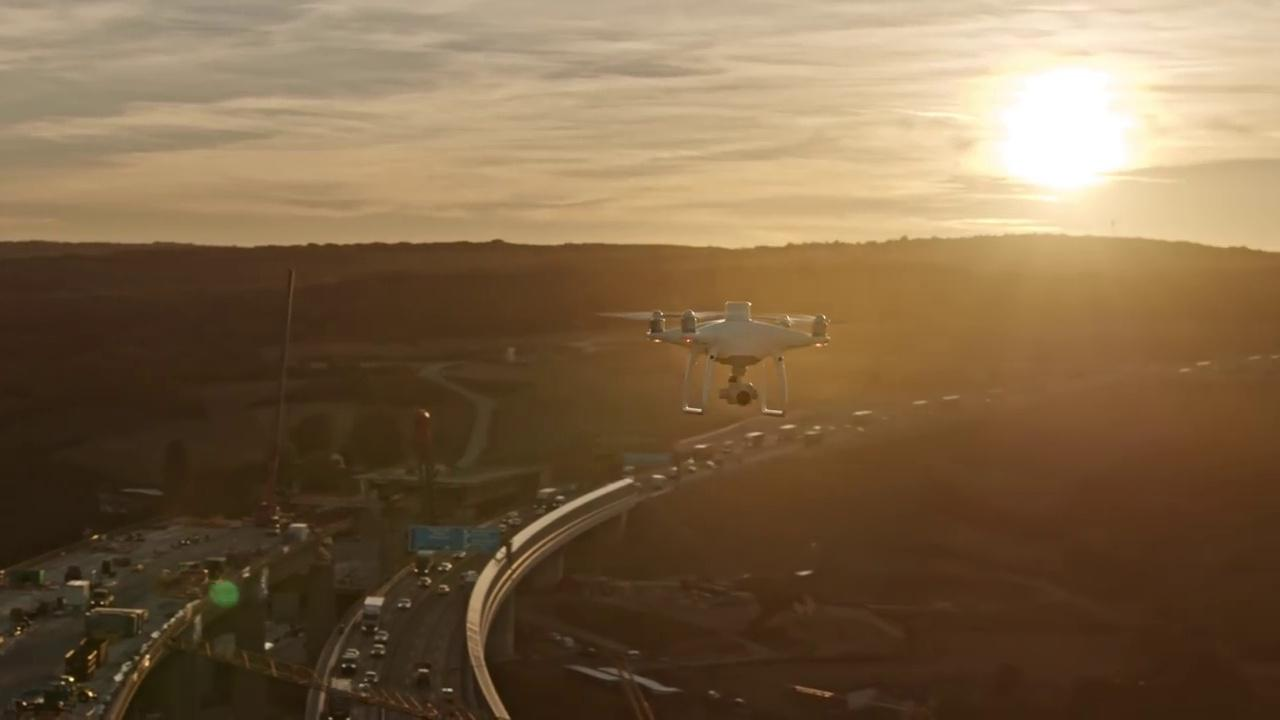drone: (593, 297, 842, 419)
